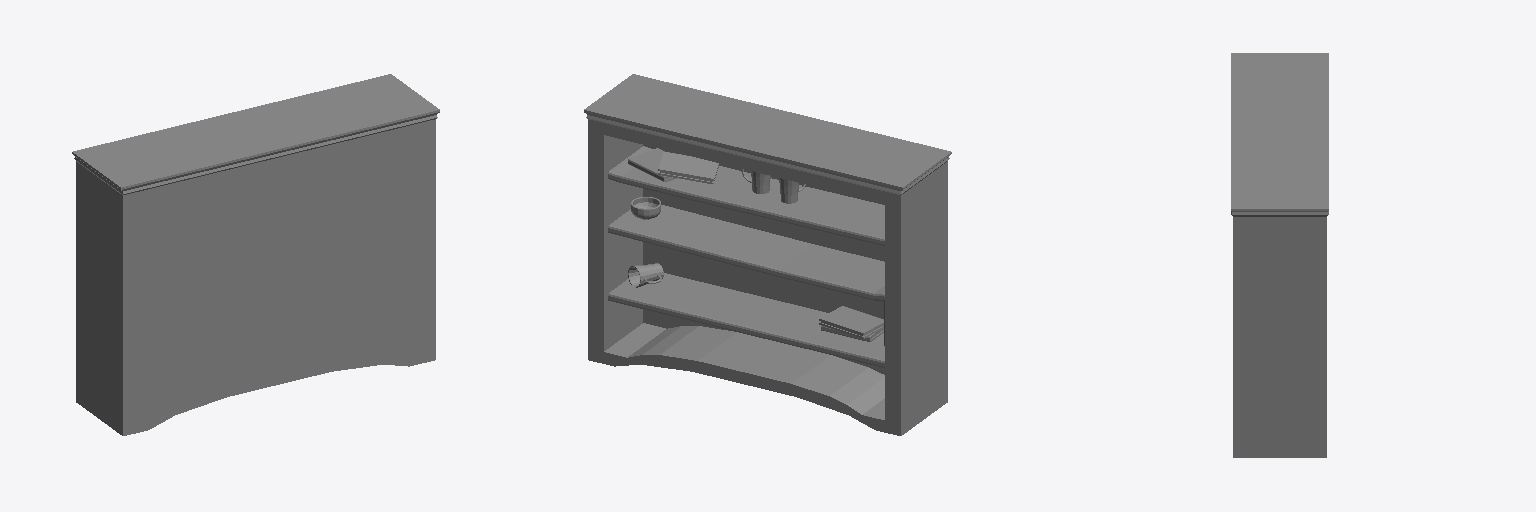
Rendered from servicio.obj.
3 views of the same model, side by side, from view 1: azimuth 30°, elevation 25°; view 2: azimuth 150°, elevation 25°; view 3: azimuth 270°, elevation 25° (orthographic).
Visible parts, largest first — view 1: Cube_000_Cube_016; view 2: Cube_000_Cube_016; view 3: Cube_000_Cube_016.
Part boxes in pixels (x1,y1,x2,y2): Cube_000_Cube_016: (72,74,439,435); Cube_000_Cube_016: (584,74,951,435); Cube_000_Cube_016: (1231,53,1328,457).
Size of the model in its own units: 7.87 by 5.9 by 2.1.